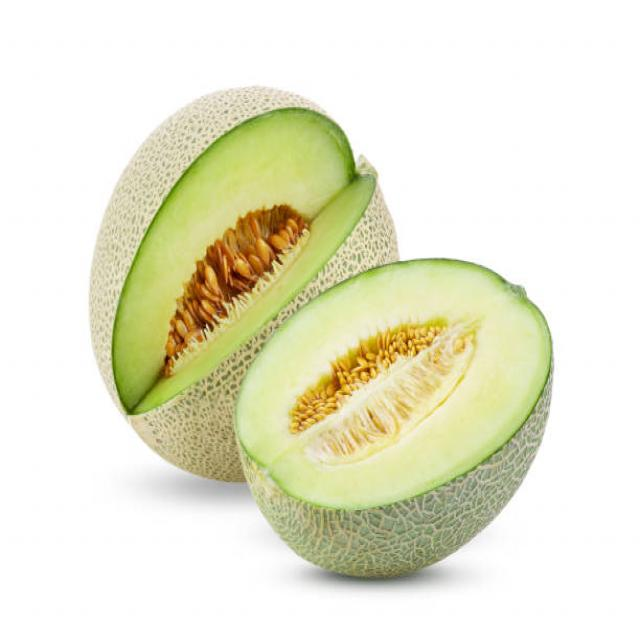Melon: (292, 256, 554, 580), (80, 78, 238, 493), (86, 80, 397, 273)
